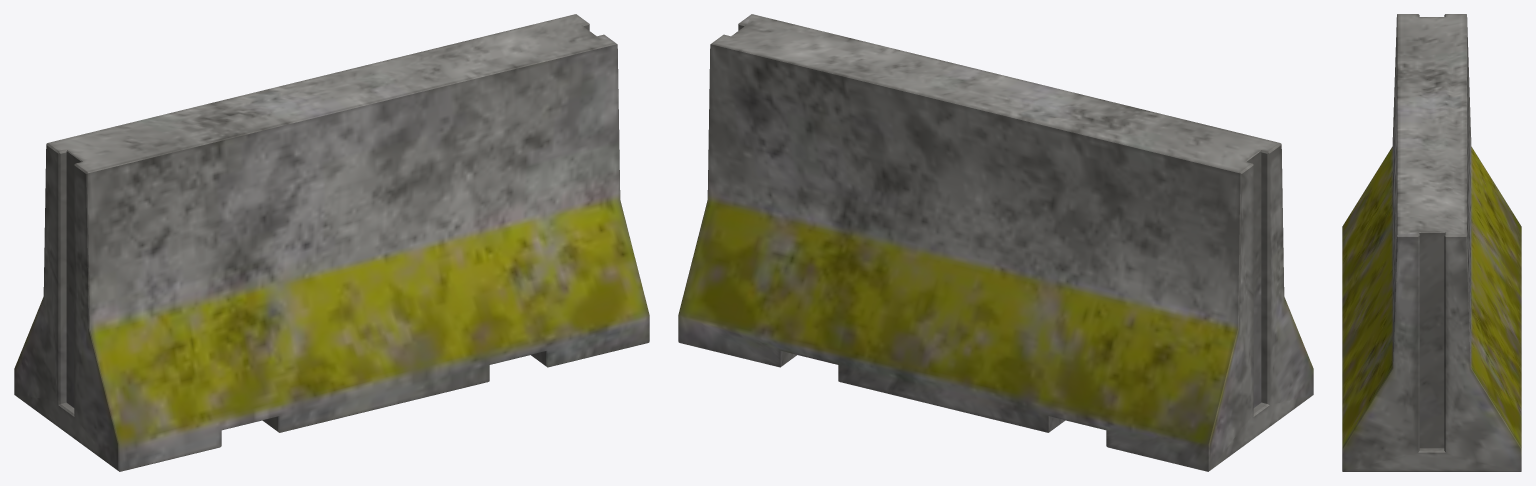
File: RoadBlock.glb
The picture shows the model from 3 angles, left to right: view 1: azimuth 30°, elevation 25°; view 2: azimuth 150°, elevation 25°; view 3: azimuth 270°, elevation 25°; orthographic projection. The views are drawn at different scales.
Visible parts, largest first — view 1: RoadBlock; view 2: RoadBlock; view 3: RoadBlock.
Part boxes in pixels (x1=…): RoadBlock: x1=14, y1=14, x2=649, y2=471; RoadBlock: x1=678, y1=14, x2=1313, y2=471; RoadBlock: x1=1342, y1=14, x2=1521, y2=471.
Bounding box in the file's own units: 1.01 × 0.4995 × 0.3428.
1 material, 1 textured.
